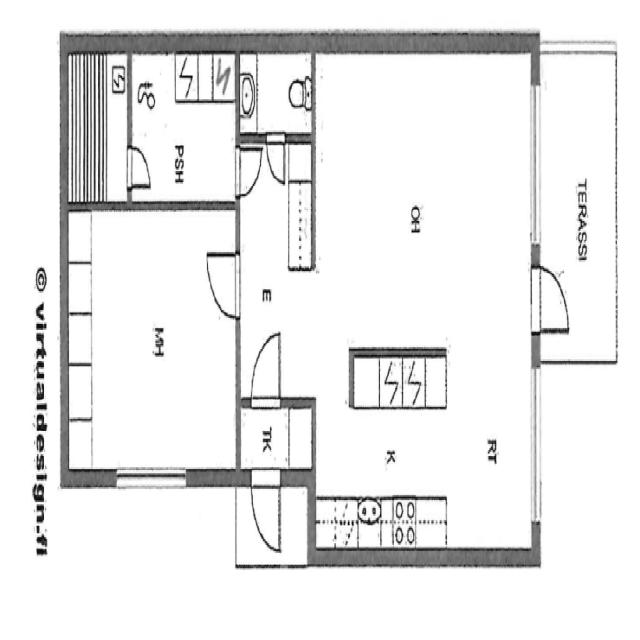door: (201, 240, 245, 324), (528, 258, 575, 336), (248, 462, 283, 562), (246, 321, 285, 409), (233, 135, 265, 201), (124, 136, 157, 198), (264, 127, 288, 193)
window: (525, 68, 546, 260), (110, 453, 192, 497), (527, 350, 544, 537)
zone: (314, 44, 532, 350), (66, 206, 238, 475), (310, 351, 533, 558), (130, 46, 238, 207), (66, 41, 130, 209), (238, 43, 316, 138)
